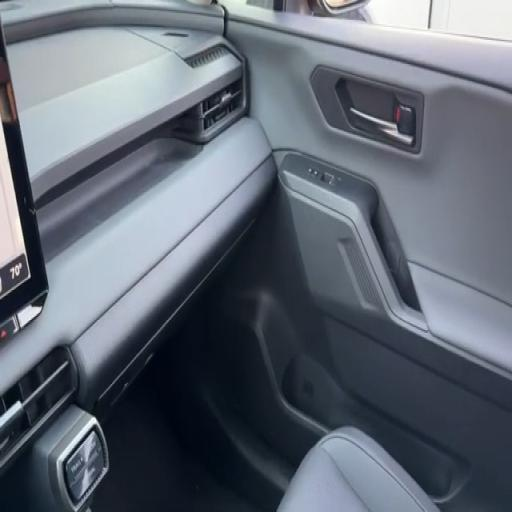door: (213, 0, 511, 511)
side_mirror: (309, 0, 368, 15)
